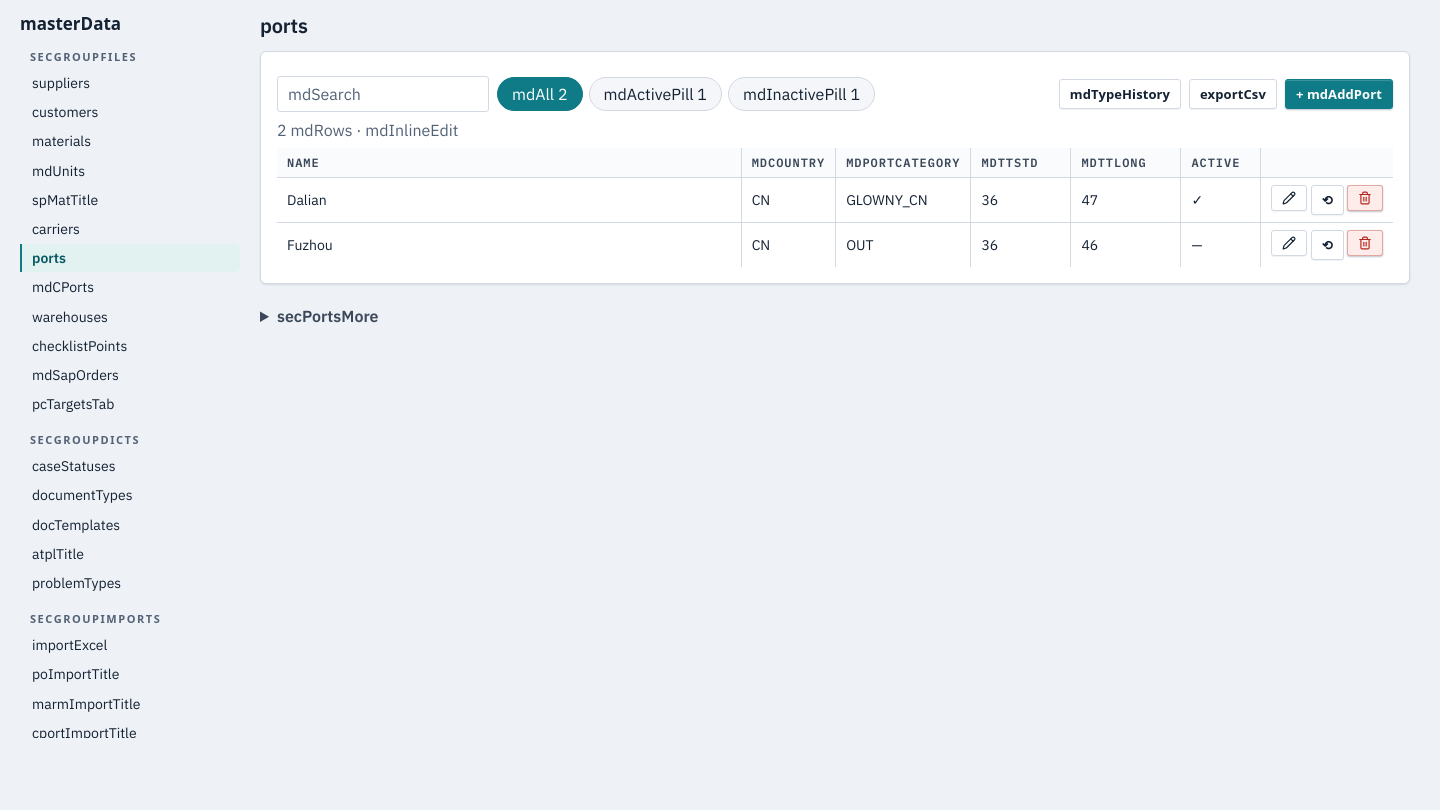
Scenario: EditableTable — porty (układ 1a) › Anuluj nie woła PATCH i wychodzi z trybu edycji
Click the text "Dalian": (509, 200) [277,178,741,222]
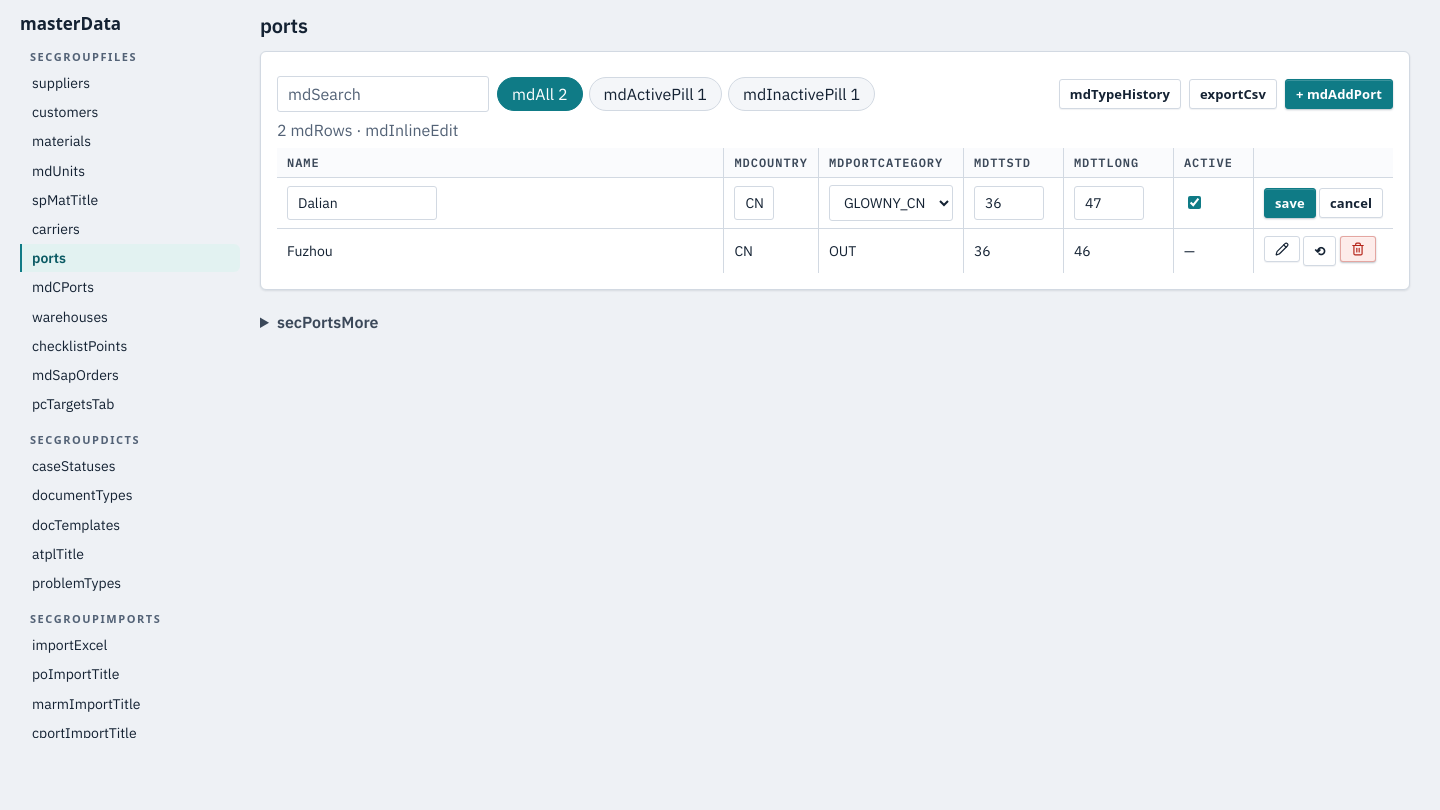
Click the button "cancel": (1351, 203) [1319,188,1383,218]
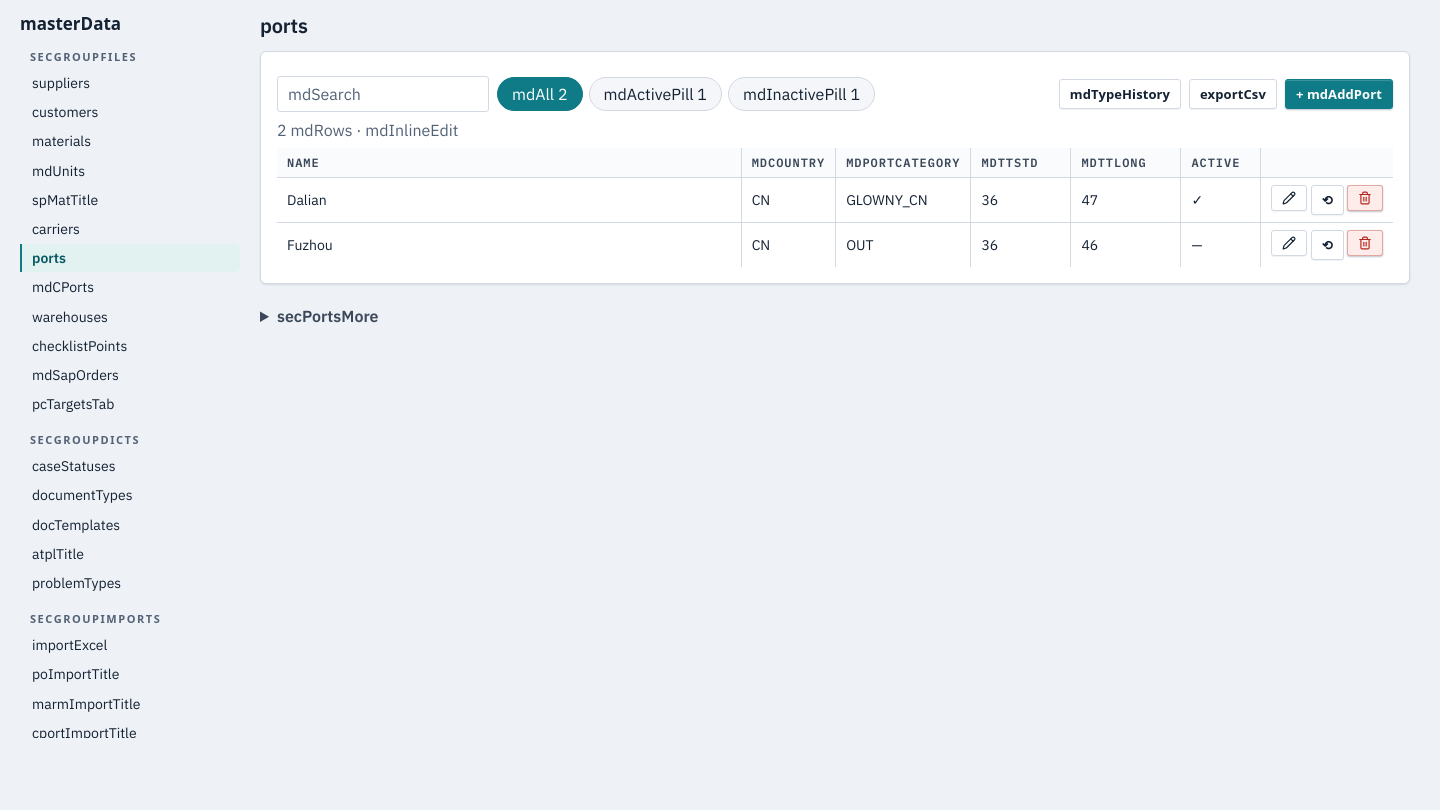
Expected: the text "Dalian" is shown, [277,178,741,222]
